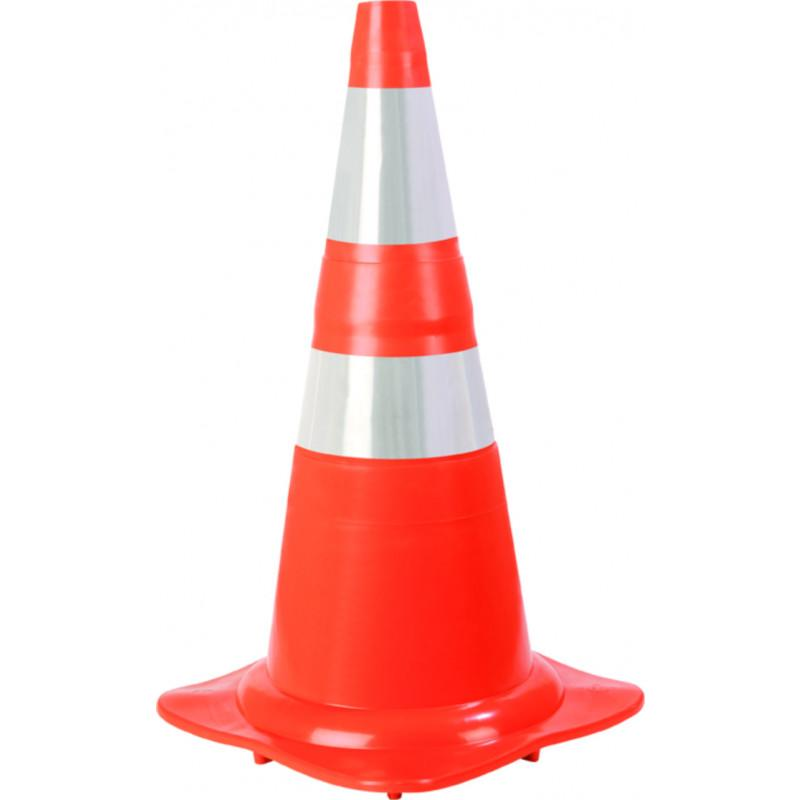traffic_cone: (156, 0, 645, 799)
